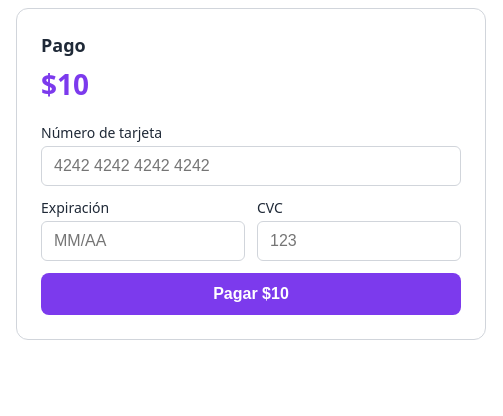
Test case: StriatumCheckout › shows error on empty card
Click the button with test id "checkout-submit".
click(251, 294)  # box [41,273,461,315]
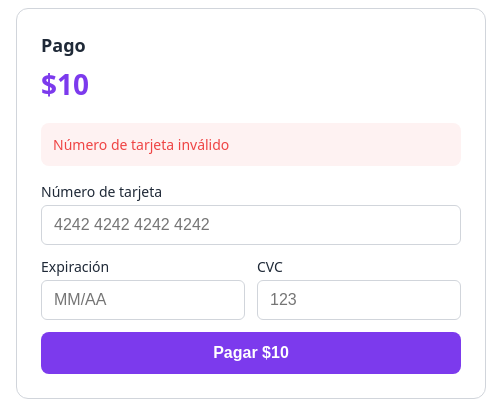
Check: the text "Número de tarjeta inválido" is shown, box [41,123,461,166]
